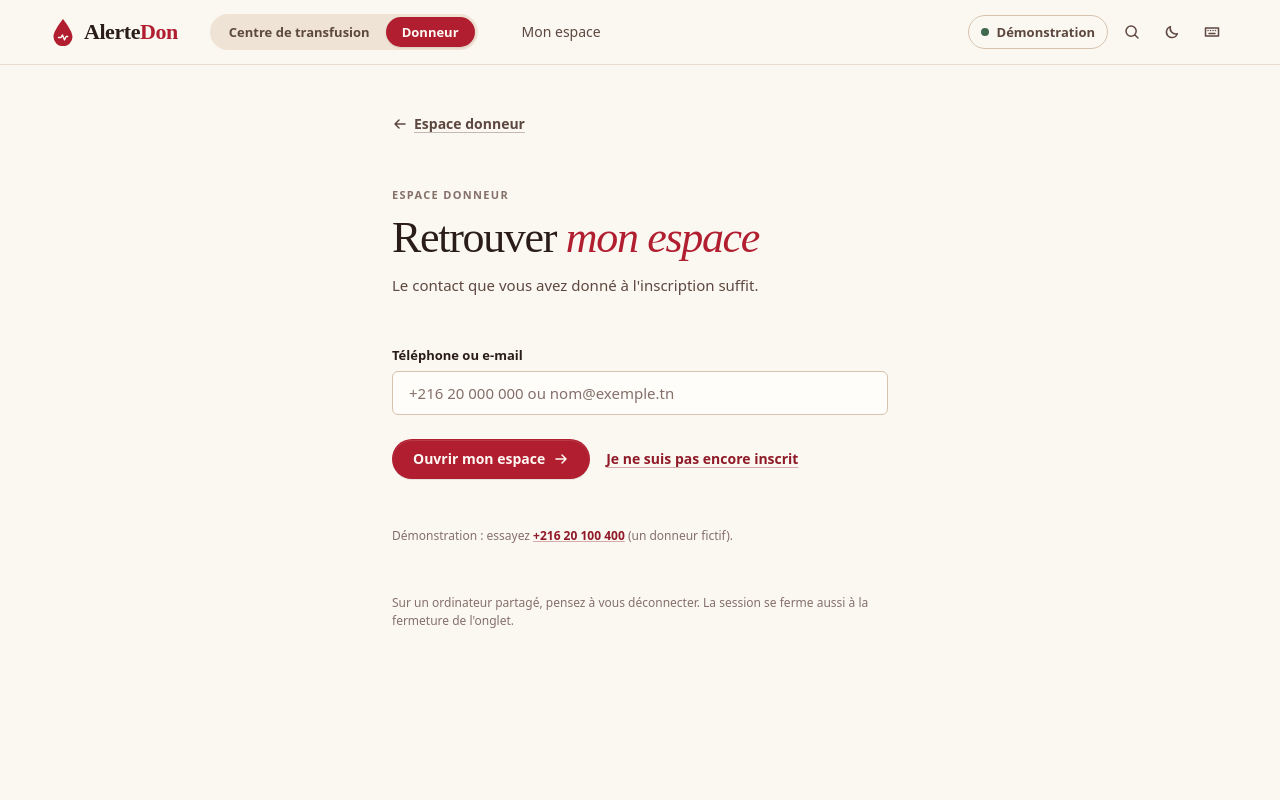
it: donor space (UC1 and UC4 belong to the Donneur actor) › gives the same answer for an unknown contact
In the field labelled "Téléphone ou e-mail": (640, 393) [392, 371, 888, 415], type "+216 99 999 999"
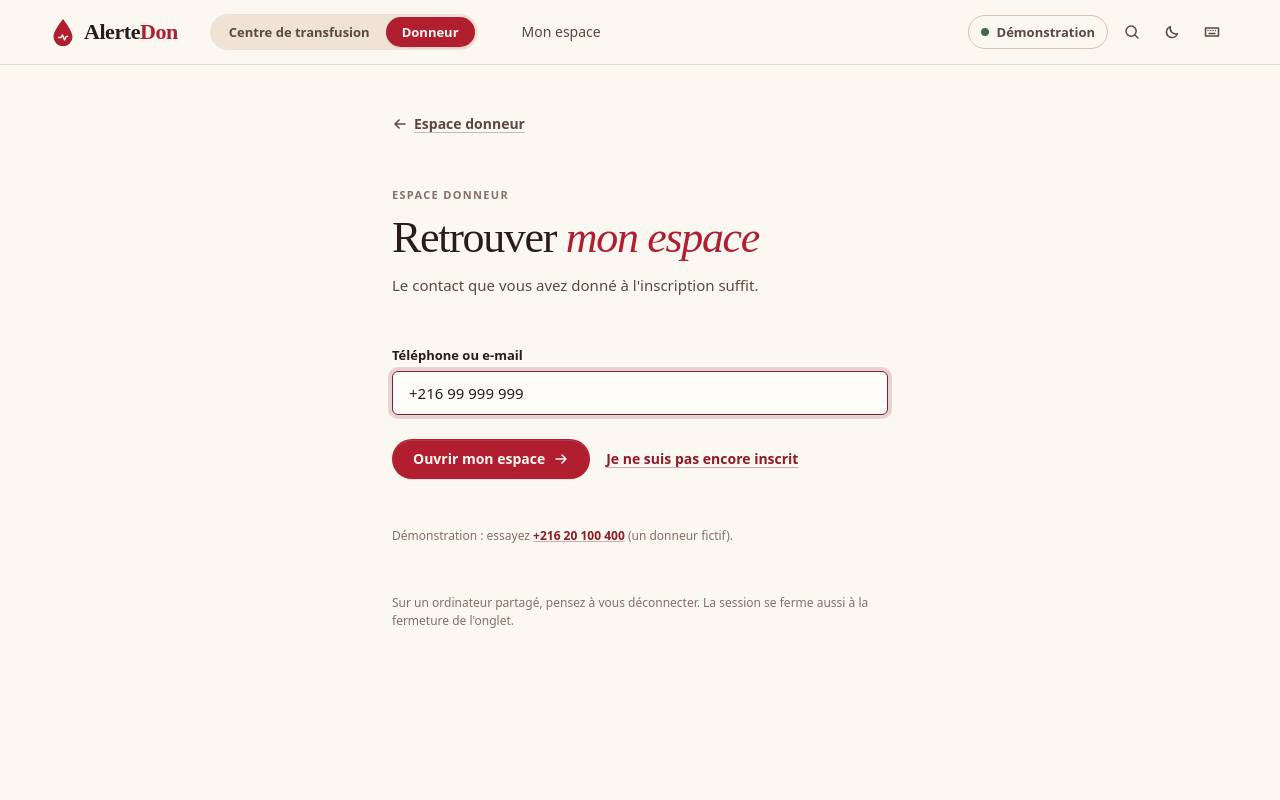
Click the button "Ouvrir mon espace": (491, 459) [392, 439, 590, 479]
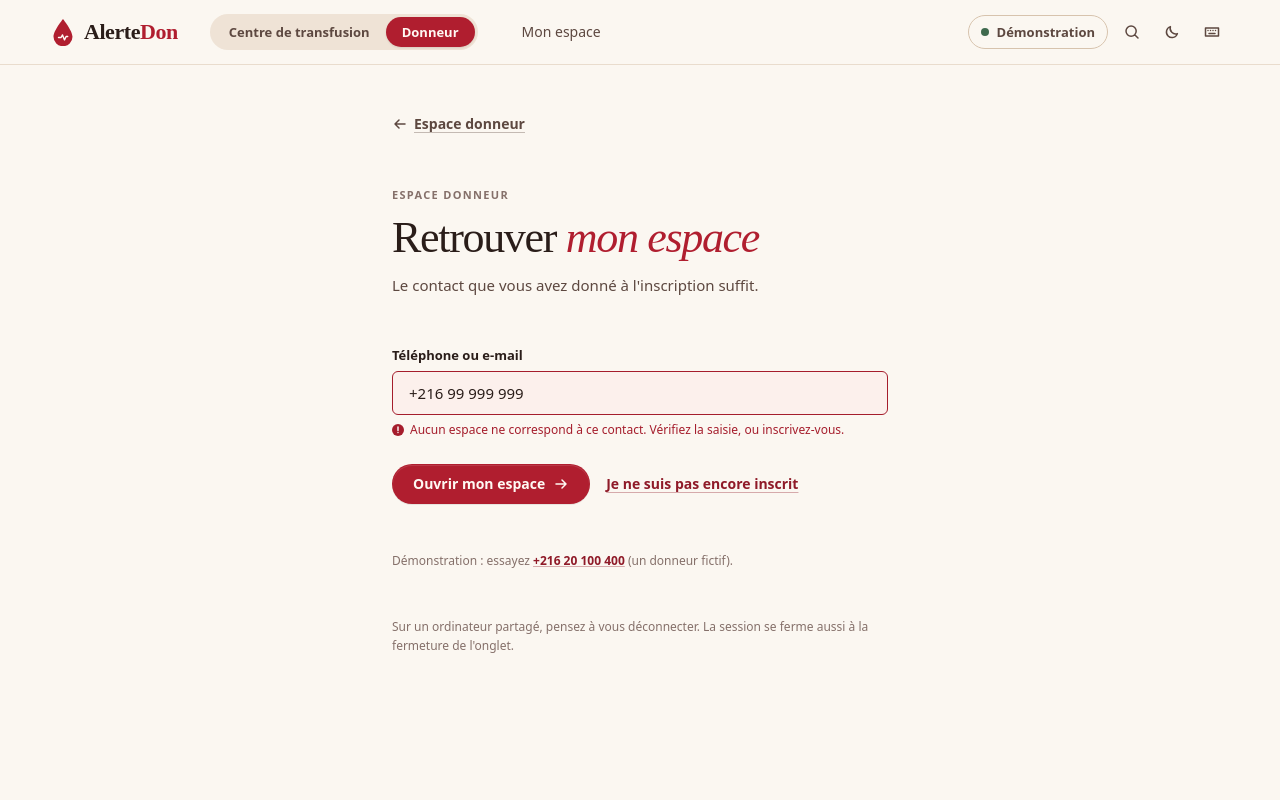
Now the text "Aucun espace ne correspond" is shown, box [410, 421, 844, 438]
